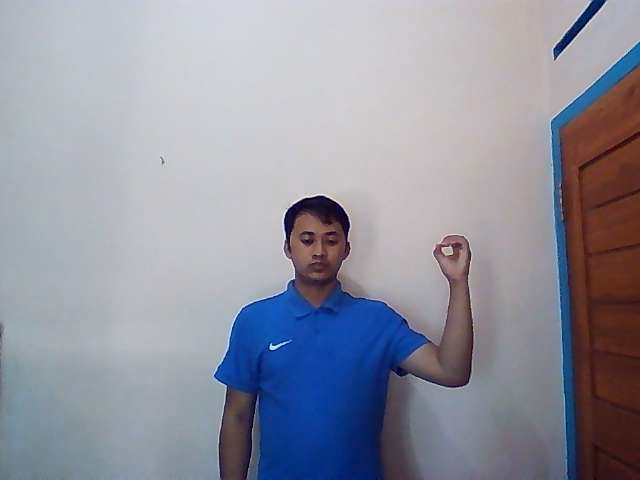O: (433, 234, 473, 279)
